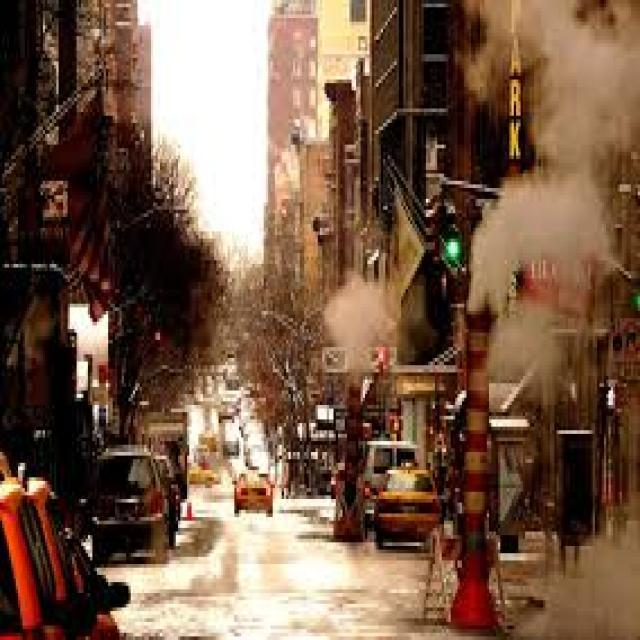Smoke: (473, 0, 638, 407), (322, 258, 398, 368)
